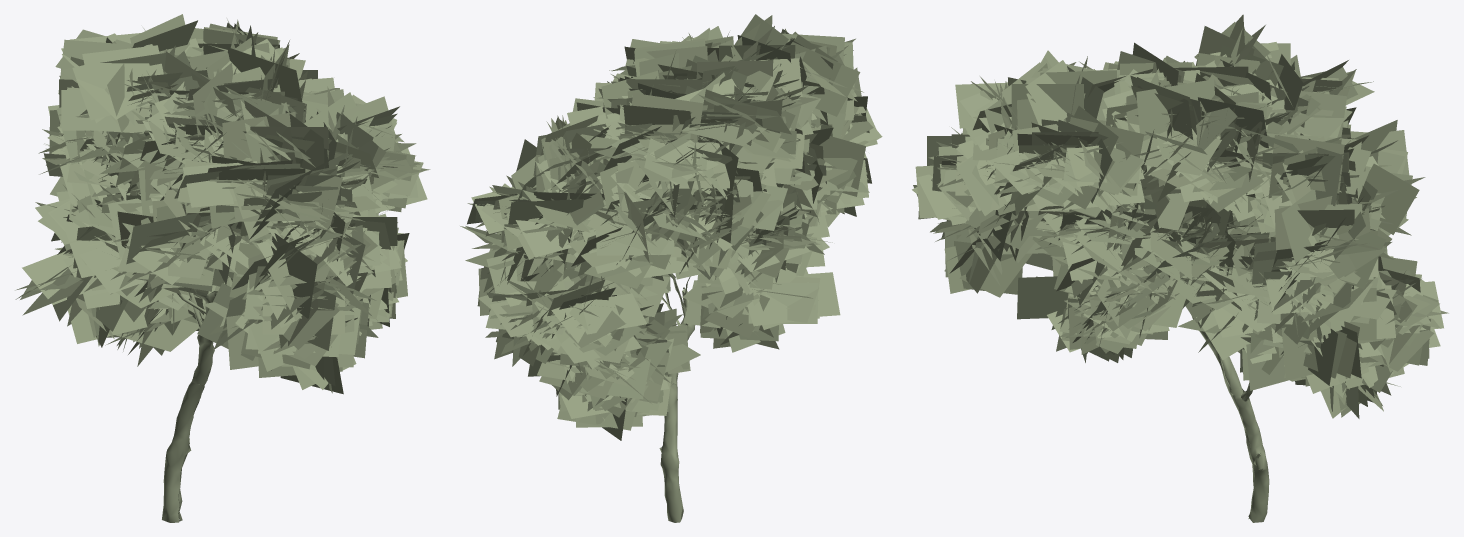
Rendered from tree-lod1.glb.
The picture shows the model from 3 angles, left to right: view 1: azimuth 30°, elevation 25°; view 2: azimuth 150°, elevation 25°; view 3: azimuth 270°, elevation 25°; orthographic projection. The views are drawn at different scales.
Parts seen in each view (by area): view 1: Photographic canopy, tree_small_02_LOD0; view 2: Photographic canopy, tree_small_02_LOD0; view 3: Photographic canopy, tree_small_02_LOD0.
Boxes of the visible parts, x1,y1,x2,y2 form: Photographic canopy: (15, 14, 430, 394); tree_small_02_LOD0: (162, 290, 217, 522); Photographic canopy: (460, 14, 882, 440); tree_small_02_LOD0: (659, 273, 695, 522); Photographic canopy: (912, 14, 1448, 418); tree_small_02_LOD0: (1192, 316, 1269, 522).
Size of the model in its own units: 3.72 by 4.75 by 5.04.
